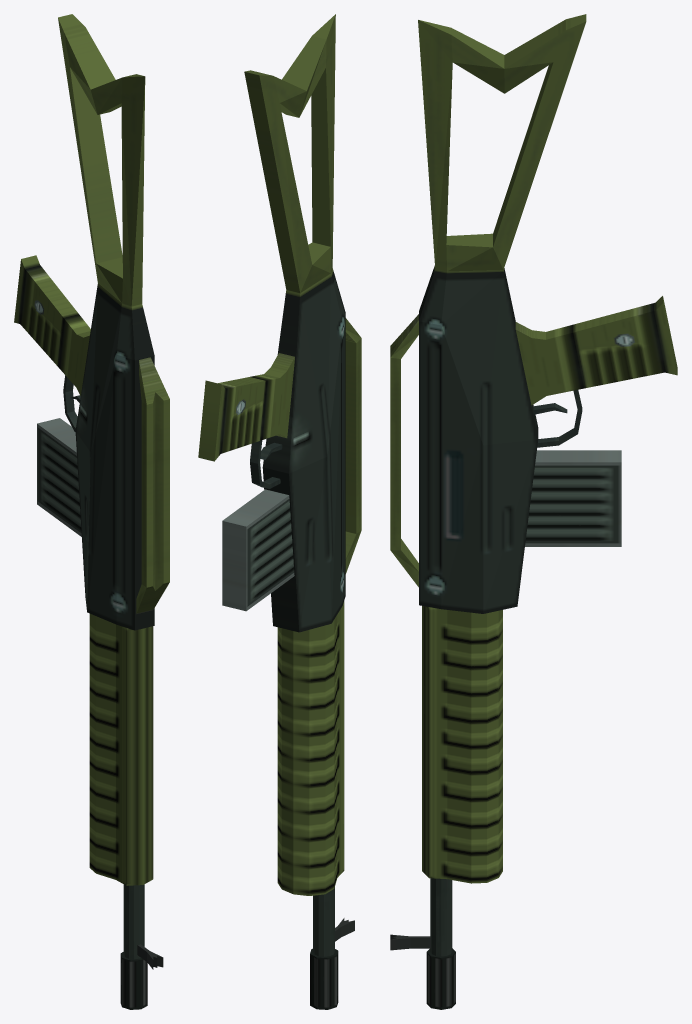
File: marinerifle370_wtf.obj
The picture shows the model from 3 angles, left to right: view 1: azimuth 30°, elevation 25°; view 2: azimuth 150°, elevation 25°; view 3: azimuth 270°, elevation 25°; orthographic projection. The views are drawn at different scales.
Visible parts, largest first — view 1: group1; view 2: group1; view 3: group1.
Part boxes in pixels (x1,y1,x2,y2): group1: (14,14,169,1009); group1: (198,14,361,1009); group1: (390,14,677,1009).
Size of the model in its own units: 39.81 by 660 by 174.
